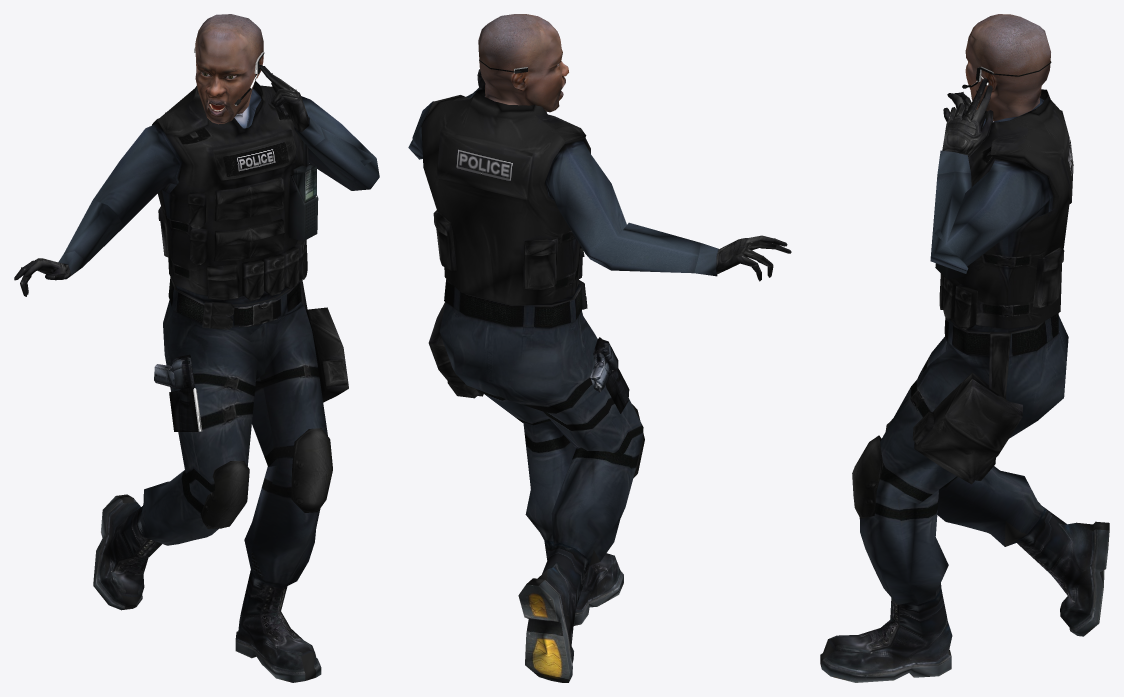
Rendered from SWAT Officer.obj.
The picture shows the model from 3 angles, left to right: view 1: azimuth 30°, elevation 25°; view 2: azimuth 150°, elevation 25°; view 3: azimuth 270°, elevation 25°; orthographic projection. The views are drawn at different scales.
Parts seen in each view (by area): view 1: (null); view 2: (null); view 3: (null).
Part boxes in pixels (x1,y1,x2,y2): (null): (14, 14, 379, 682); (null): (408, 14, 791, 682); (null): (820, 14, 1109, 682).
Size of the model in its own units: 41.45 by 65.73 by 26.43.
